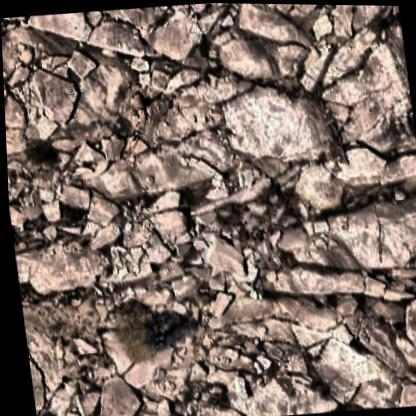tree-top: (106, 309, 169, 365)
